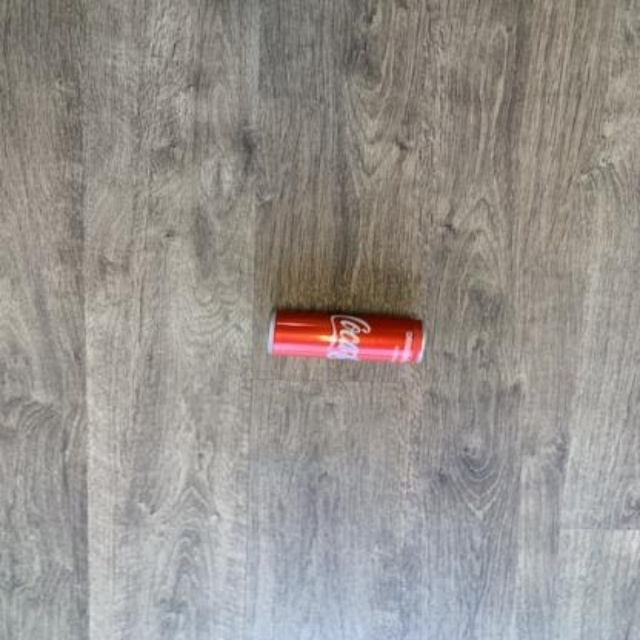trash: (268, 309, 423, 362)
